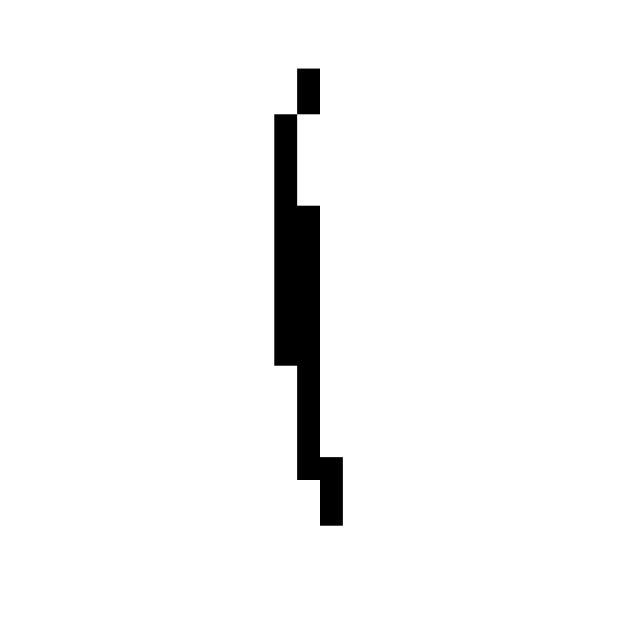1 -one-: (240, 46, 379, 543)
